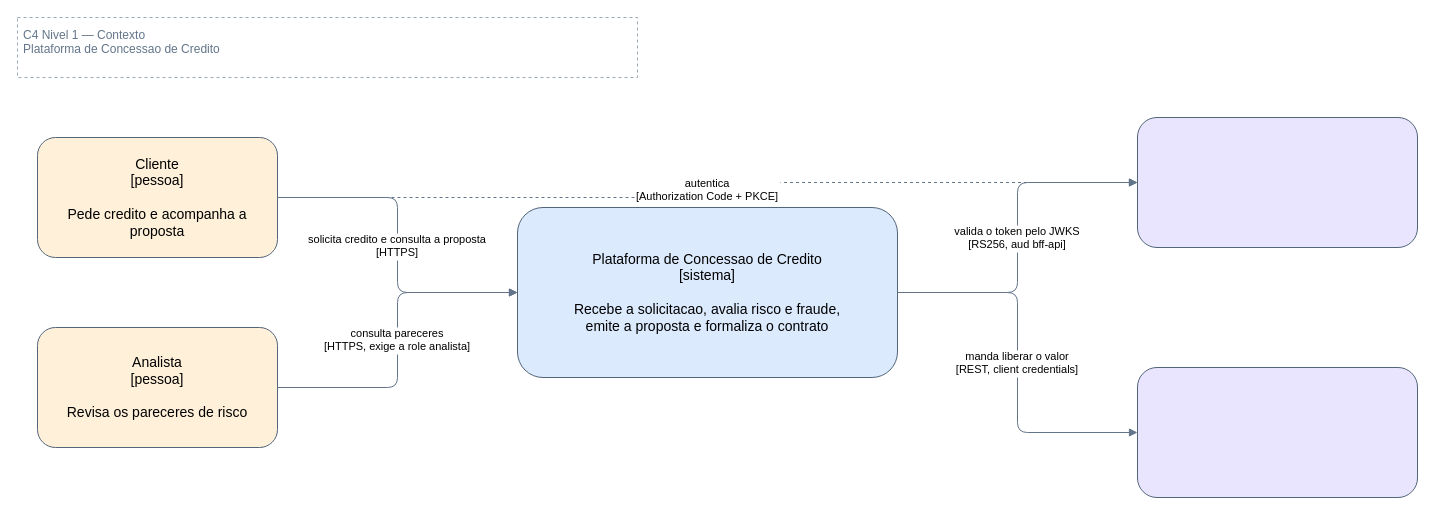
This 1435x515 diagram has some shape labels left out. The box of each missing label's shape, as (x1, y1, x2, y2) in pixels:
Core Bancario [sistema externo] Liberacao do valor ao cliente: (1136, 366, 1418, 498)
Keycloak [sistema externo] Identity Provider OAuth2 / OIDC: (1136, 116, 1418, 248)
